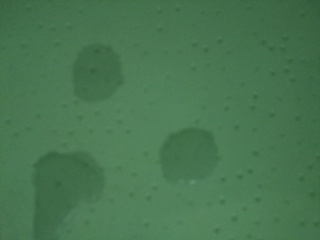Water_detected: (47, 156, 88, 226), (168, 128, 209, 174), (75, 41, 113, 88)
